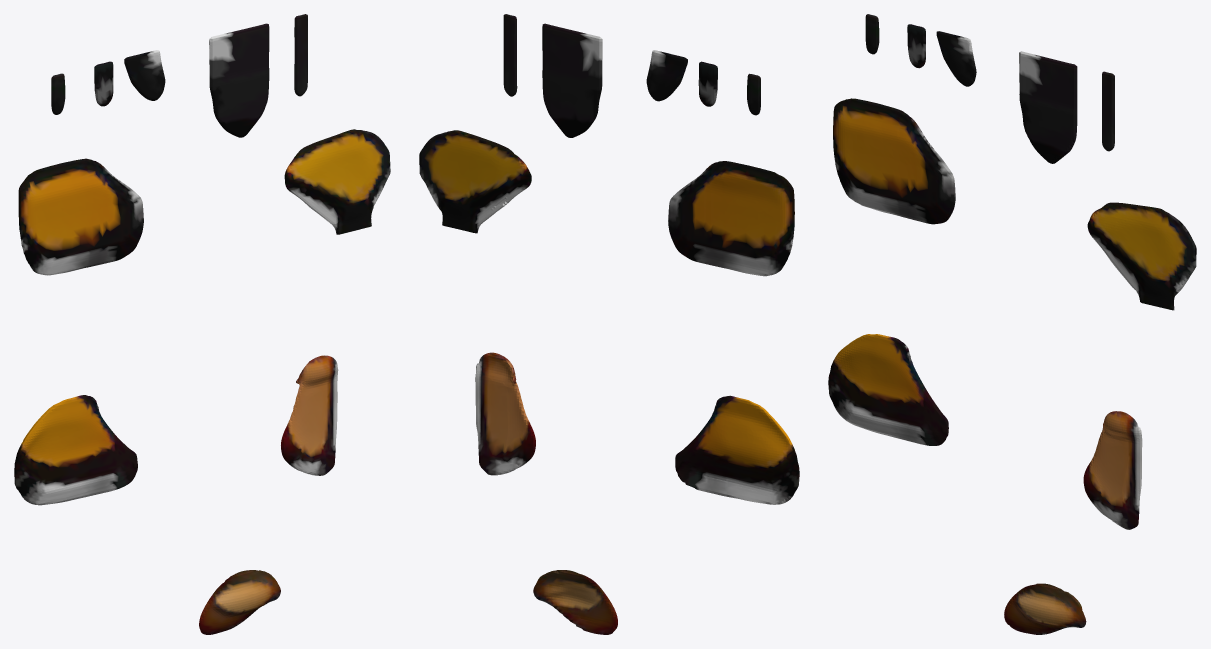
The model's file is falling_rocks.glb.
3 renders of one model, left to right at view 1: azimuth 30°, elevation 25°; view 2: azimuth 150°, elevation 25°; view 3: azimuth 330°, elevation 25°, orthographic. The views are drawn at different scales.
Parts seen in each view (by area): view 1: geometry_0; view 2: geometry_0; view 3: geometry_0.
Part boxes in pixels (x1,y1,x2,y2): geometry_0: (14,14,390,634); geometry_0: (419,14,799,634); geometry_0: (828,14,1196,634).
Bounding box in the file's own units: 0.5938 × 0.8995 × 0.0264.
